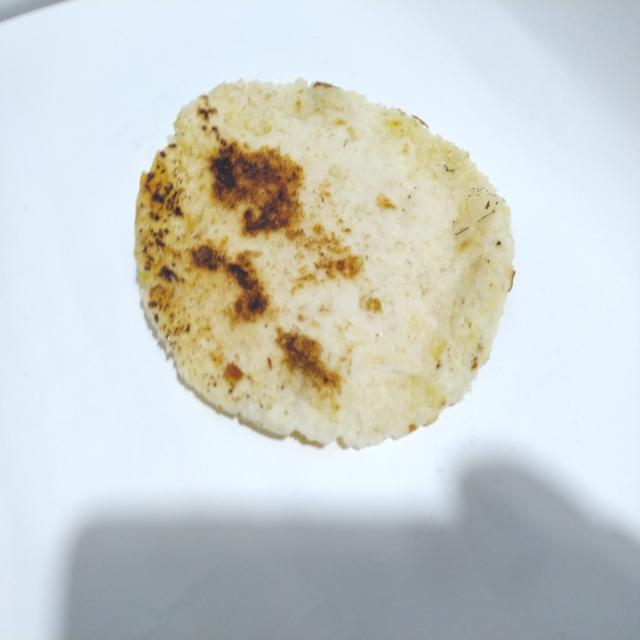Food: (130, 64, 524, 459)
